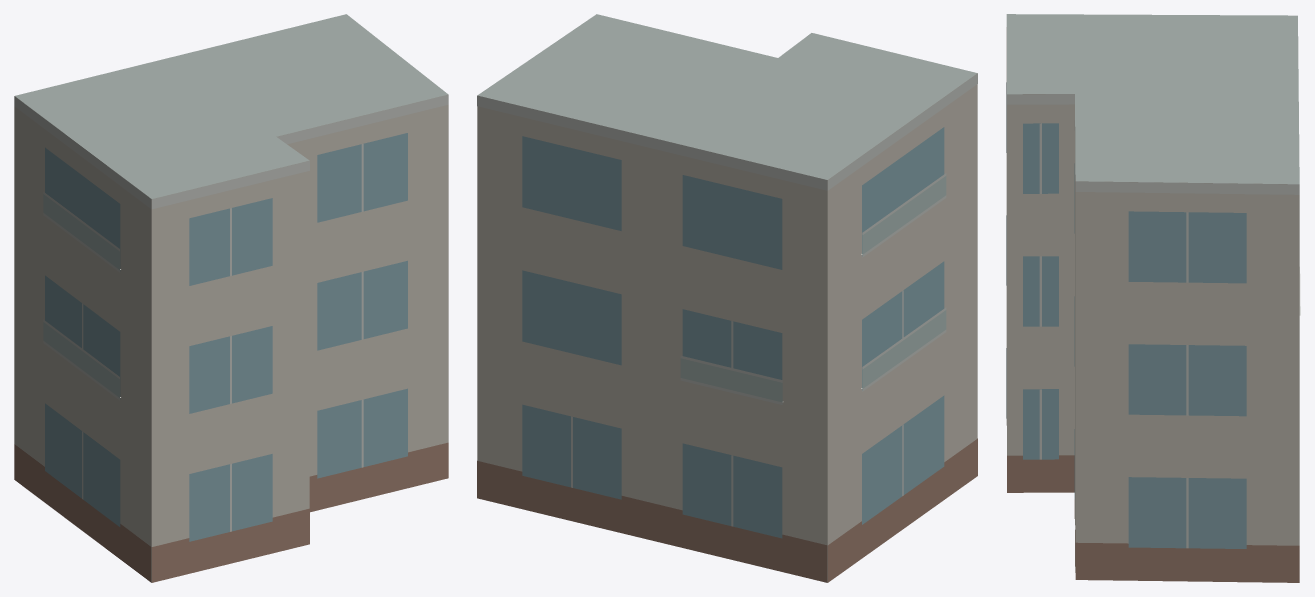
The model's file is survey-upis-32887159.glb.
3 views of the same model, side by side, from view 1: azimuth 30°, elevation 25°; view 2: azimuth 150°, elevation 25°; view 3: azimuth 270°, elevation 25° (orthographic). The views are drawn at different scales.
Parts seen in each view (by area): view 1: survey-upis-32887159.tmp; view 2: survey-upis-32887159.tmp; view 3: survey-upis-32887159.tmp.
Boxes of the visible parts, x1,y1,x2,y2 form: survey-upis-32887159.tmp: (14, 14, 448, 582); survey-upis-32887159.tmp: (477, 14, 977, 582); survey-upis-32887159.tmp: (1006, 14, 1300, 582).
Size of the model in its own units: 8.41 by 9.15 by 6.12.
